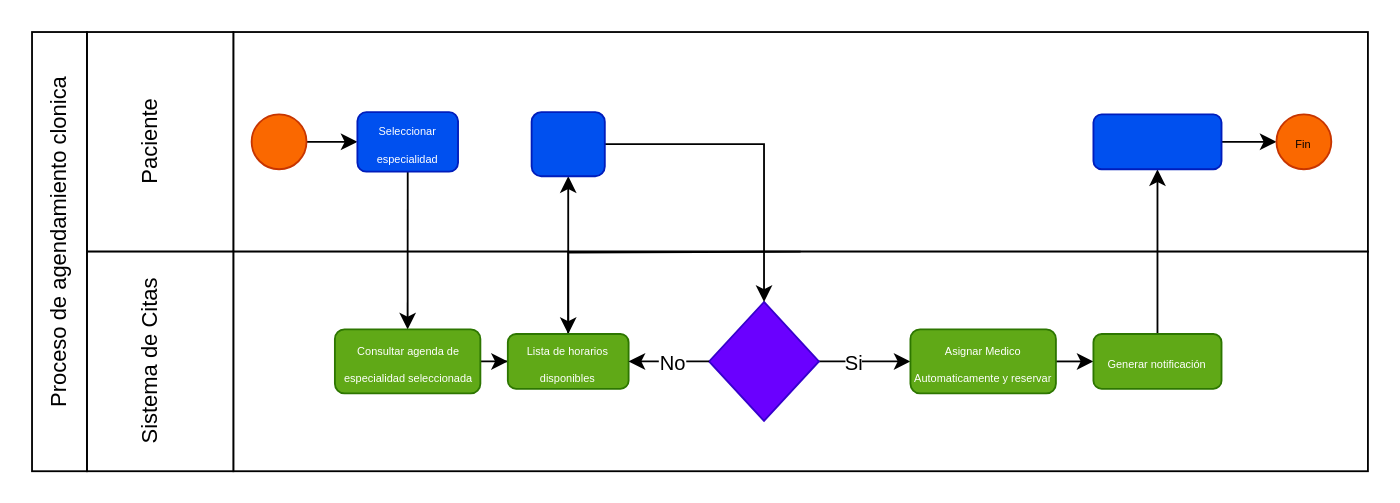
The diagram is 1400 pixels wide and 503 high, and some of its shapes have lost their labels. The shapes that lost their labels are listed below. From the top down, each one's centre as x and y in pixels, then its label:
At pixel 278 141: "Inicio".
At pixel 567 143: "Escoger la fecha y hora".
At pixel 1157 141: "Recibir confirmación".
At pixel 763 360: "Cupo Disponible?".
